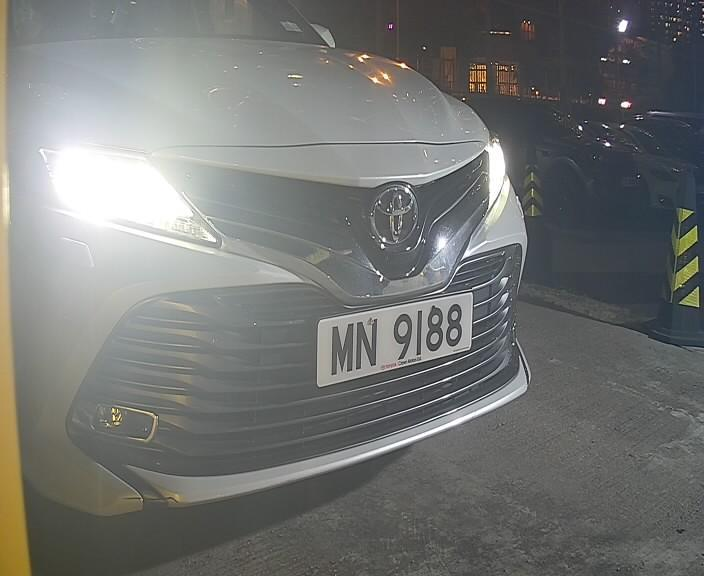License Plate: (315, 283, 472, 389)
